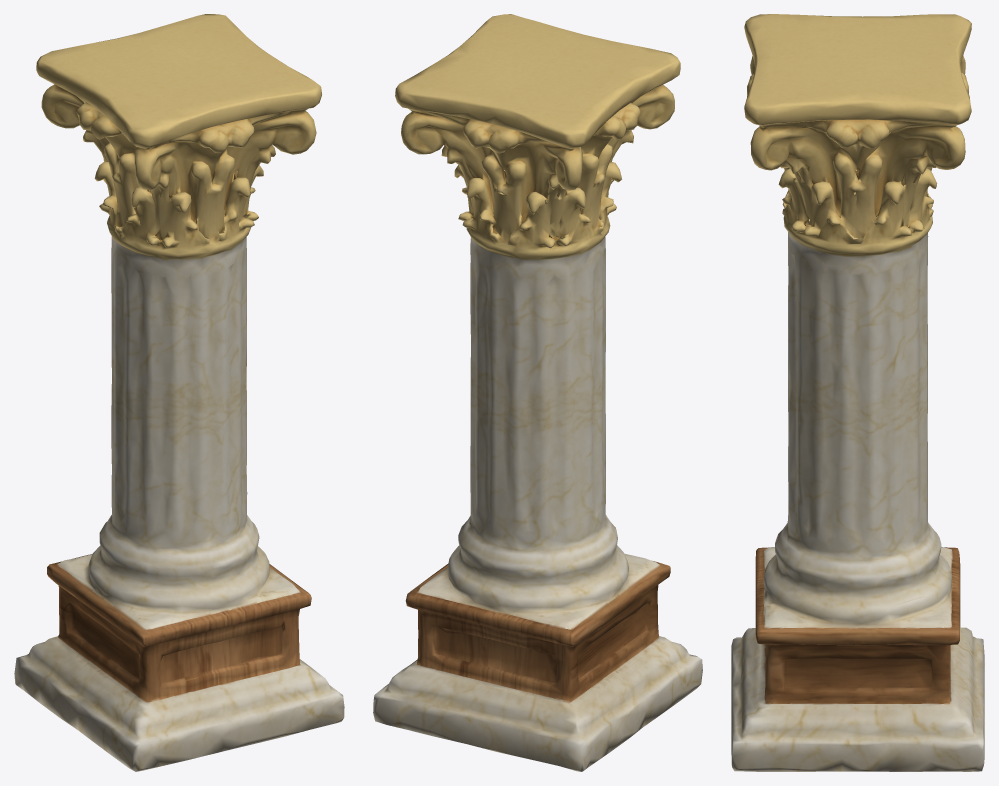
File: int_temple_pillar.glb
3 renders of one model, left to right at view 1: azimuth 30°, elevation 25°; view 2: azimuth 150°, elevation 25°; view 3: azimuth 270°, elevation 25°, orthographic. The views are drawn at different scales.
Parts seen in each view (by area): view 1: world; view 2: world; view 3: world.
Boxes of the visible parts, left/top/right/bottom form: world: left=14, top=14, right=344, bottom=771; world: left=373, top=14, right=702, bottom=771; world: left=731, top=14, right=984, bottom=771.
Bounding box in the file's own units: 0.3477 × 1 × 0.3479.
1 material, 1 textured.
